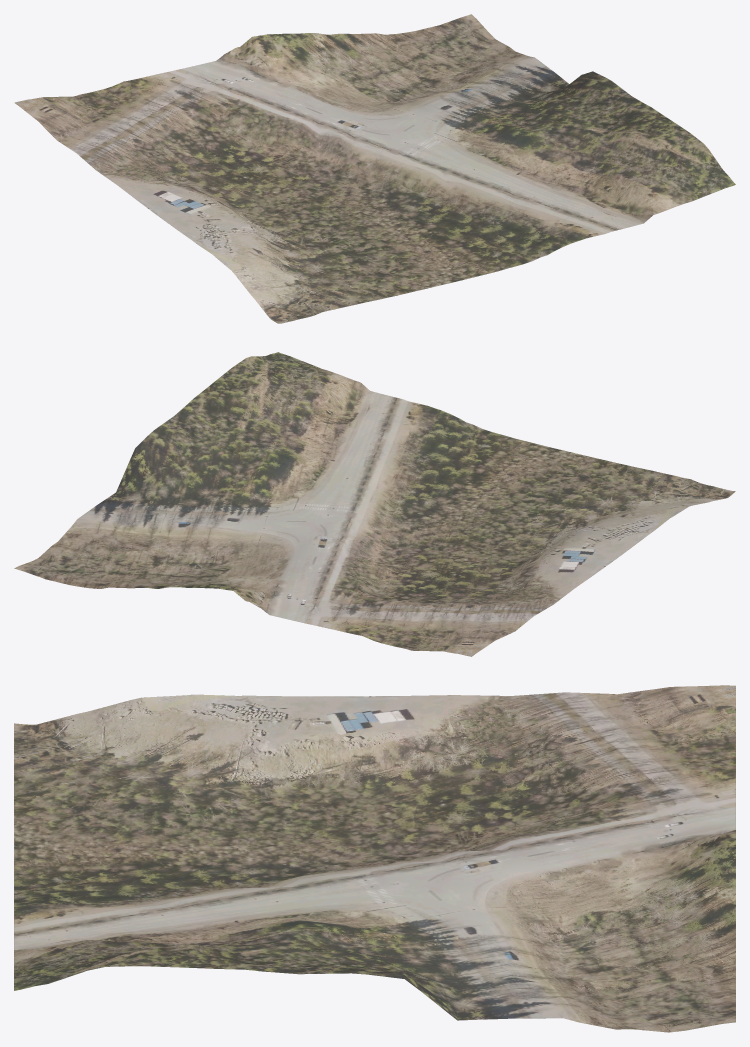
Rendered from CM_Terrain_24492916_6815698.fbx.
3 views of the same model, one above another, from view 1: azimuth 30°, elevation 25°; view 2: azimuth 150°, elevation 25°; view 3: azimuth 270°, elevation 25° (orthographic). The views are drawn at different scales.
Visible parts, largest first — view 1: CM_Terrain_24492916_6815698_LOD0; view 2: CM_Terrain_24492916_6815698_LOD0; view 3: CM_Terrain_24492916_6815698_LOD0.
Part boxes in pixels (x1,y1,x2,y2): CM_Terrain_24492916_6815698_LOD0: [14, 14, 735, 323]; CM_Terrain_24492916_6815698_LOD0: [14, 352, 735, 656]; CM_Terrain_24492916_6815698_LOD0: [14, 685, 735, 1032].
Size of what is drawn, in the model's own units: 205 by 21.06 by 205.
